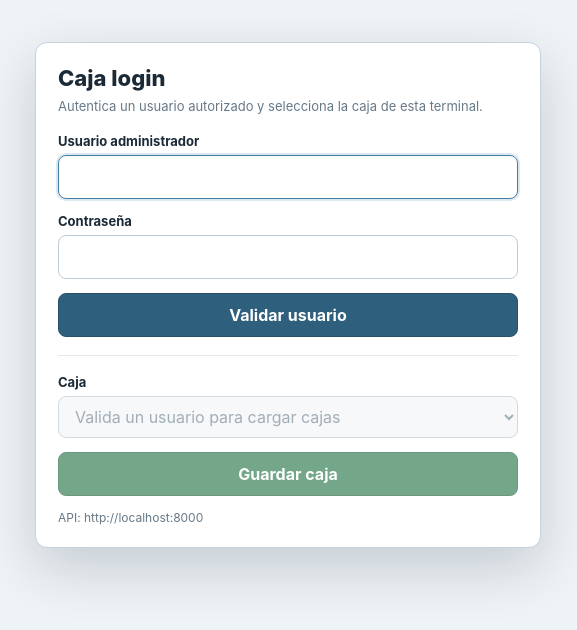
Test: blocks continuing when the cash register list is empty
This screenshot has width=577, height=630.
In the field labelled "Usuario administrador": coordinates (288, 177) [58,155,518,199], type "admin"
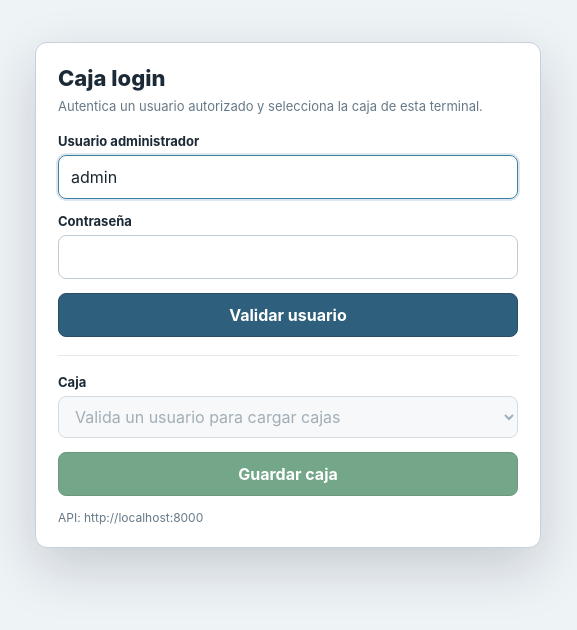
In the password field labelled "Contraseña": coordinates (288, 257) [58,235,518,279], type "secret"
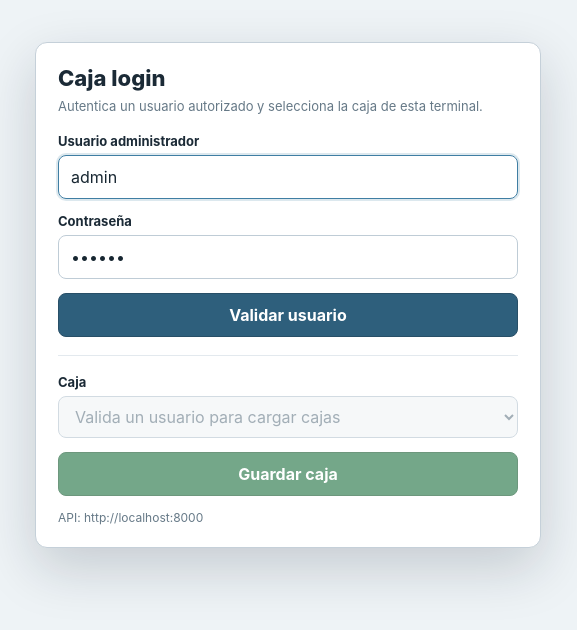
Click the button "Validar usuario": coordinates (288, 315) [58,293,518,337]
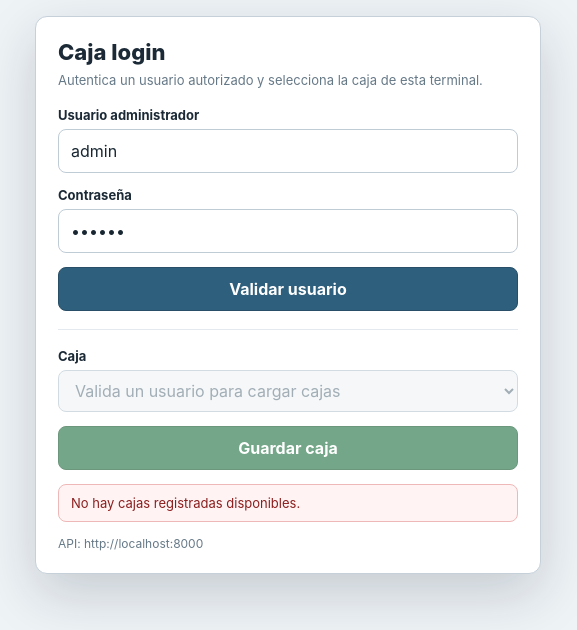
Expected: the button "Guardar caja" is disabled, [58,426,518,470]
Expected: the message reads "No hay cajas registradas disponibles.", [71,495,300,511]
